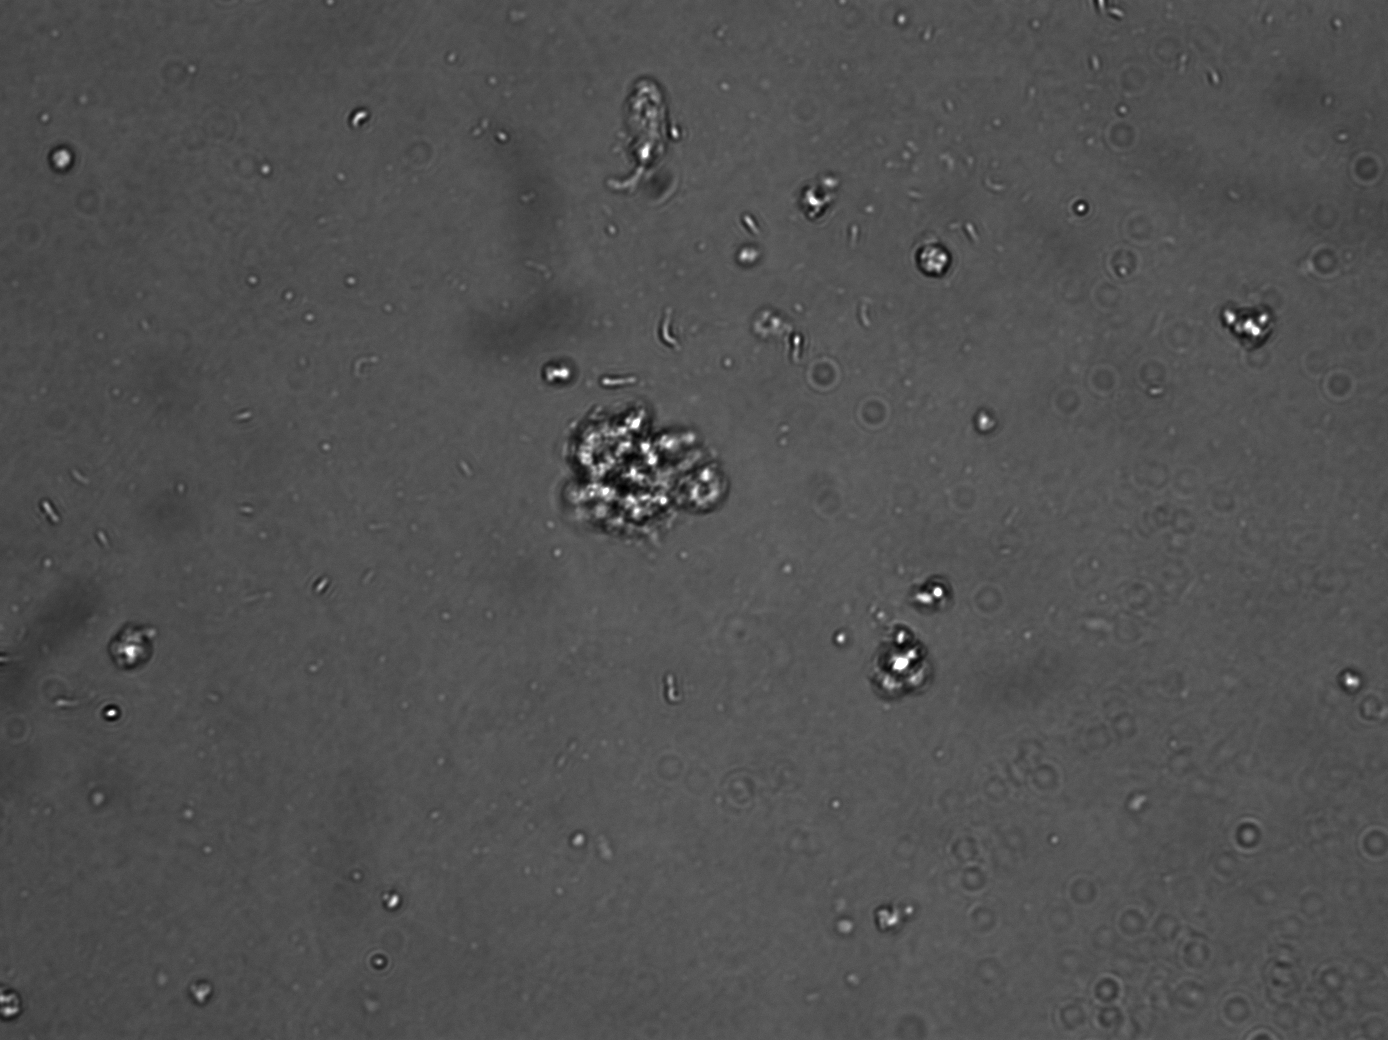ceil: (556, 395, 732, 548), (865, 618, 938, 702), (105, 616, 162, 675)
